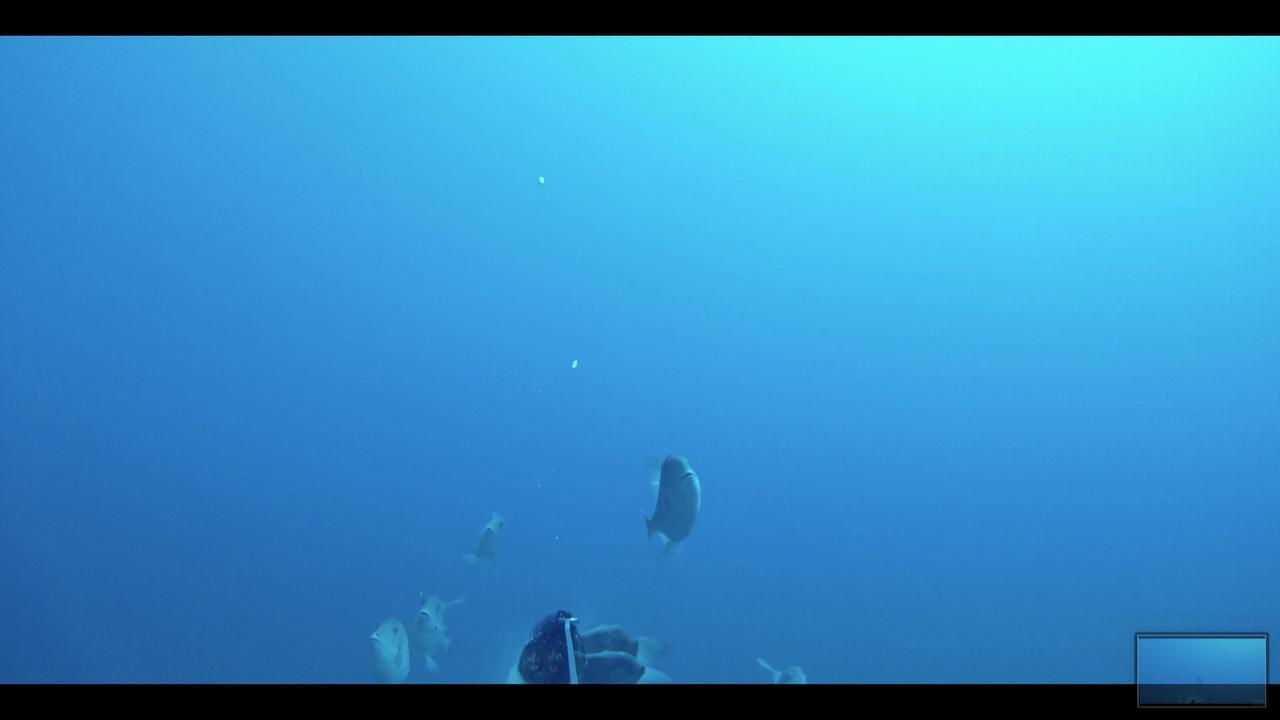balistes: (635, 450, 709, 562), (352, 610, 425, 683), (413, 589, 475, 666), (458, 505, 511, 560)
